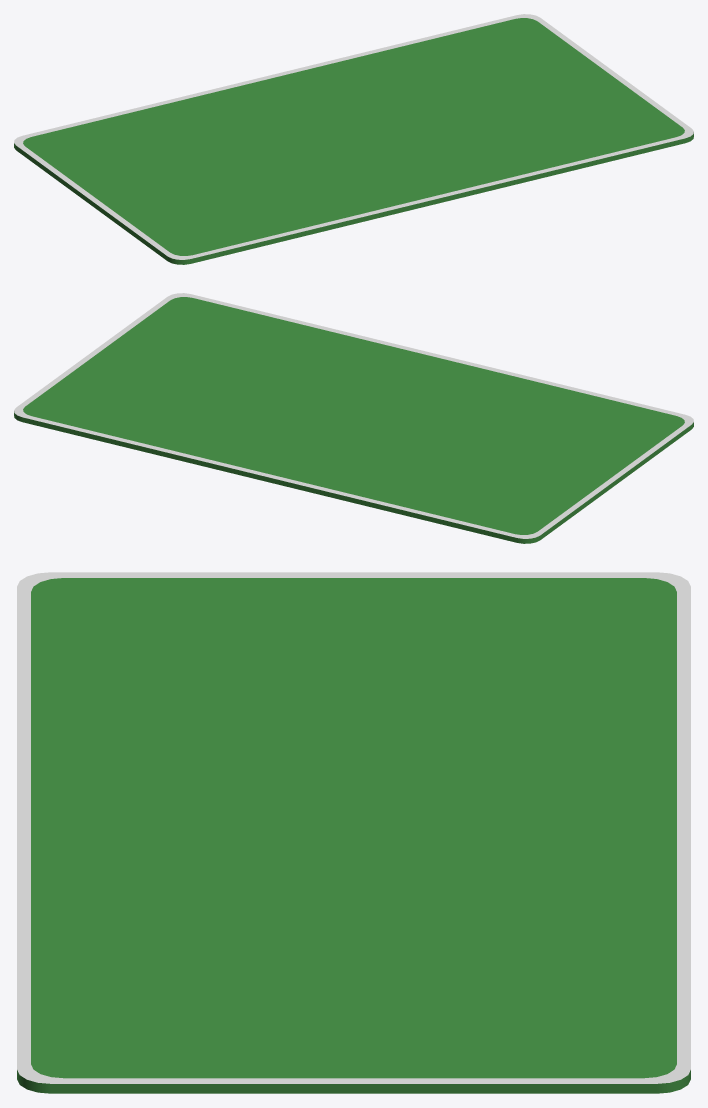
File: highway_info_sign.fbx
3 renders of one model, top to bottom at view 1: azimuth 30°, elevation 25°; view 2: azimuth 150°, elevation 25°; view 3: azimuth 270°, elevation 25°, orthographic. The views are drawn at different scales.
Parts seen in each view (by area): view 1: Green_Highway_Sign; view 2: Green_Highway_Sign; view 3: Green_Highway_Sign.
Boxes of the visible parts, x1,y1,x2,y2 form: Green_Highway_Sign: [14, 14, 693, 264]; Green_Highway_Sign: [14, 293, 693, 543]; Green_Highway_Sign: [17, 572, 690, 1093].
Size of the model in its own units: 389 by 3.48 by 217.
